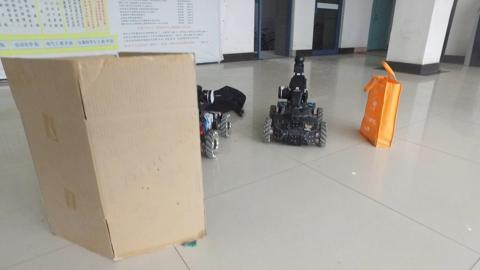bag: (358, 61, 401, 150)
chariot: (260, 52, 331, 150), (197, 82, 229, 156)
